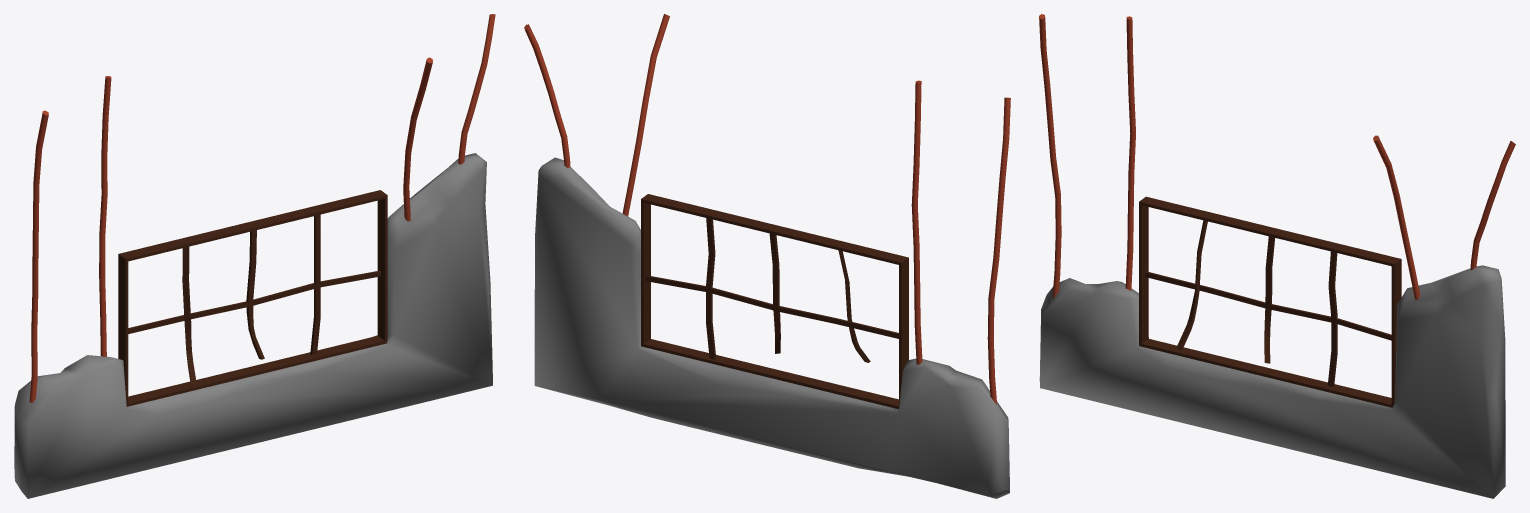
The model's file is SM_wall_window_wide_broken.fbx.
The picture shows the model from 3 angles, left to right: view 1: azimuth 30°, elevation 25°; view 2: azimuth 150°, elevation 25°; view 3: azimuth 330°, elevation 25°; orthographic projection. The views are drawn at different scales.
Parts seen in each view (by area): view 1: Object021; view 2: Object021; view 3: Object021.
Part boxes in pixels (x1,y1,x2,y2): Object021: (14, 14, 495, 498); Object021: (524, 14, 1010, 498); Object021: (1039, 14, 1515, 498).
Size of the model in its own units: 202 by 159 by 30.91.
